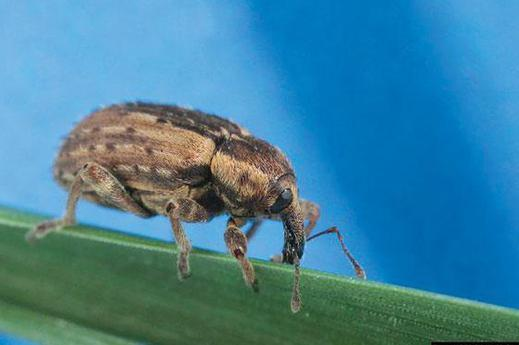weevils: (10, 63, 395, 334)
